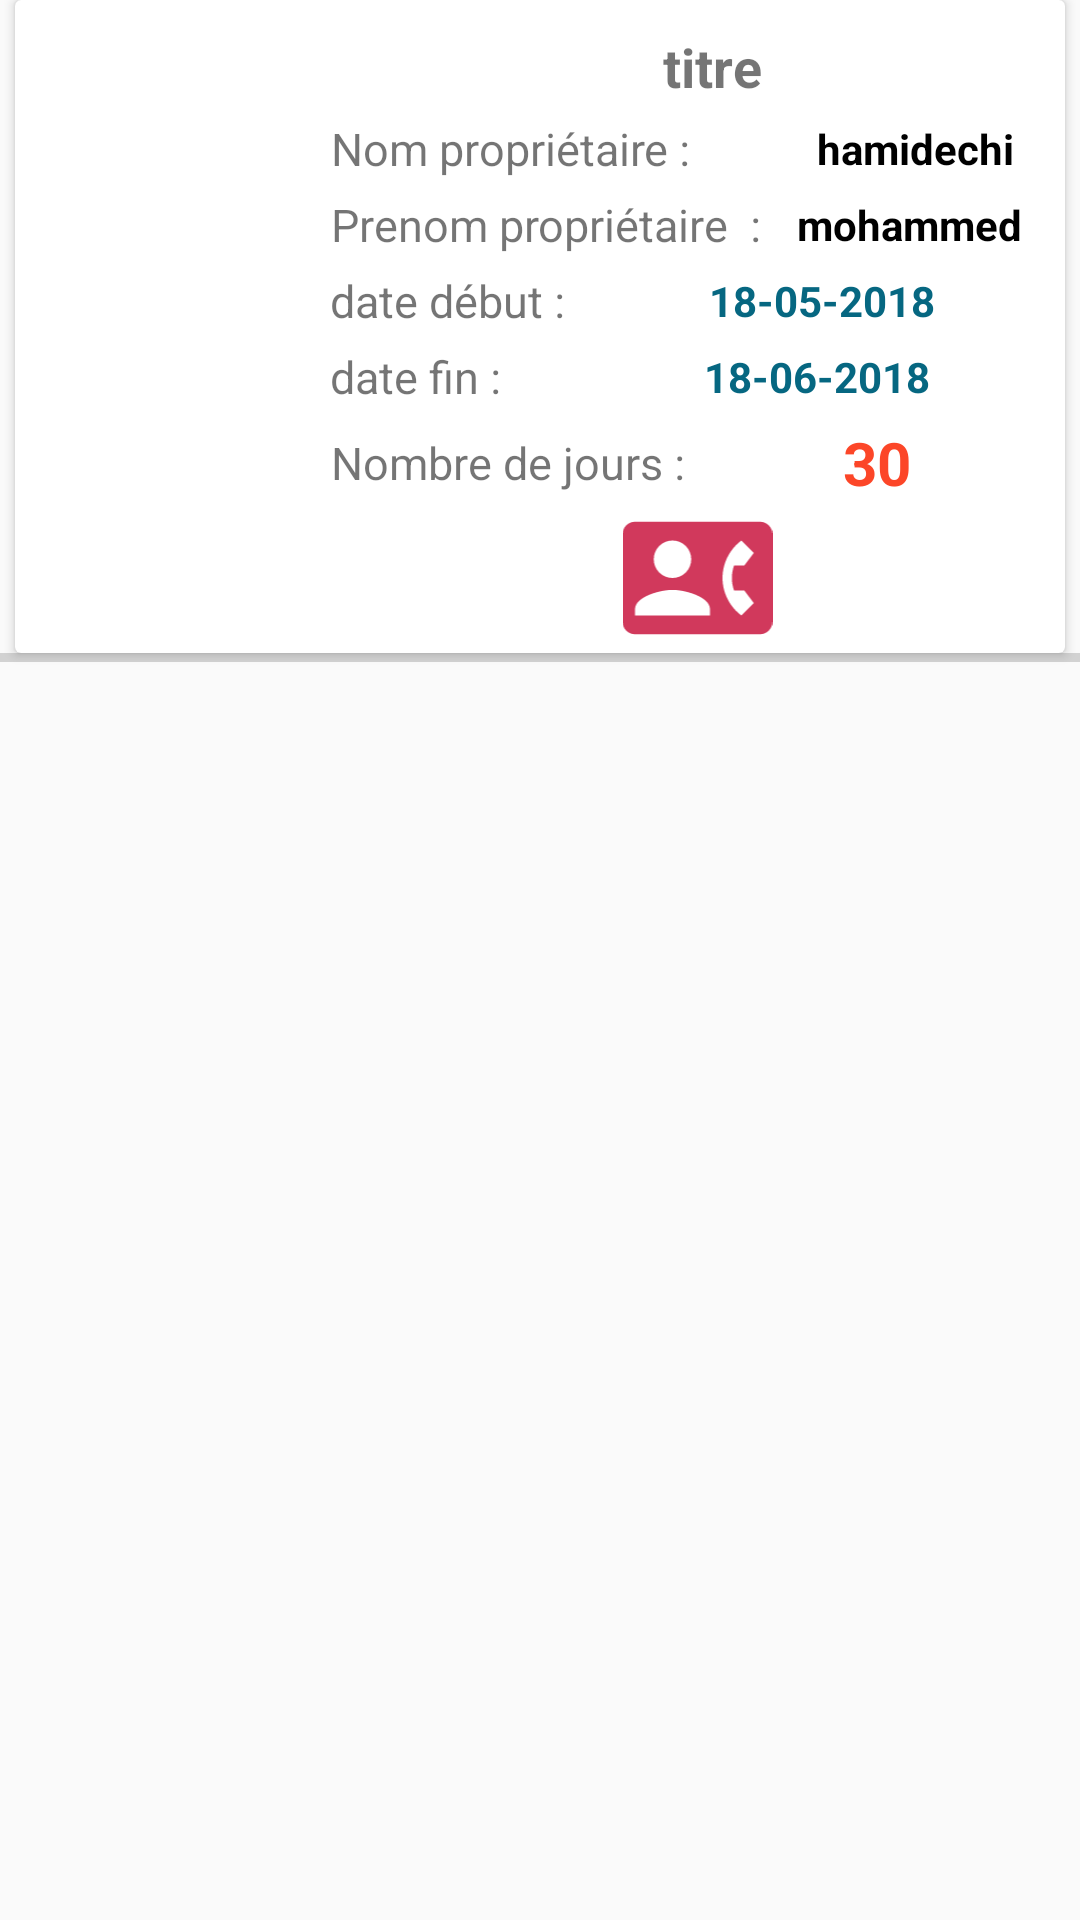

Where icons sit on this 1080*1920 app screen, as (x1, y1, x2, y2):
contact phone: (623, 521, 773, 635)
